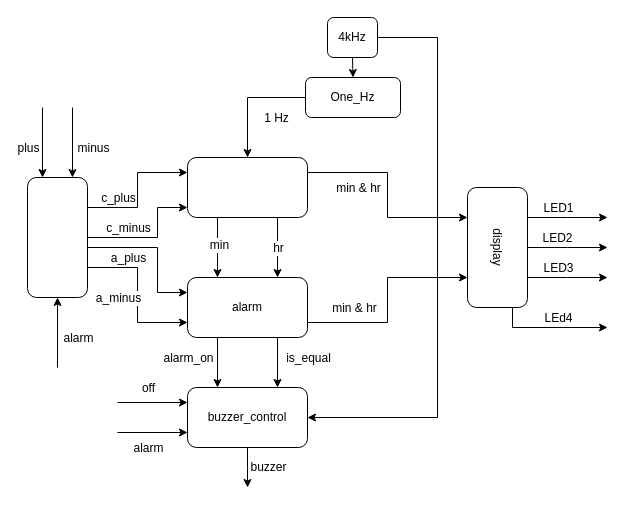
The diagram is 633 pixels wide and 513 high, and some of its shapes have lost their labels. Each missing label, with the centre of its shape:
control: (57,237)
timer: (247,187)
